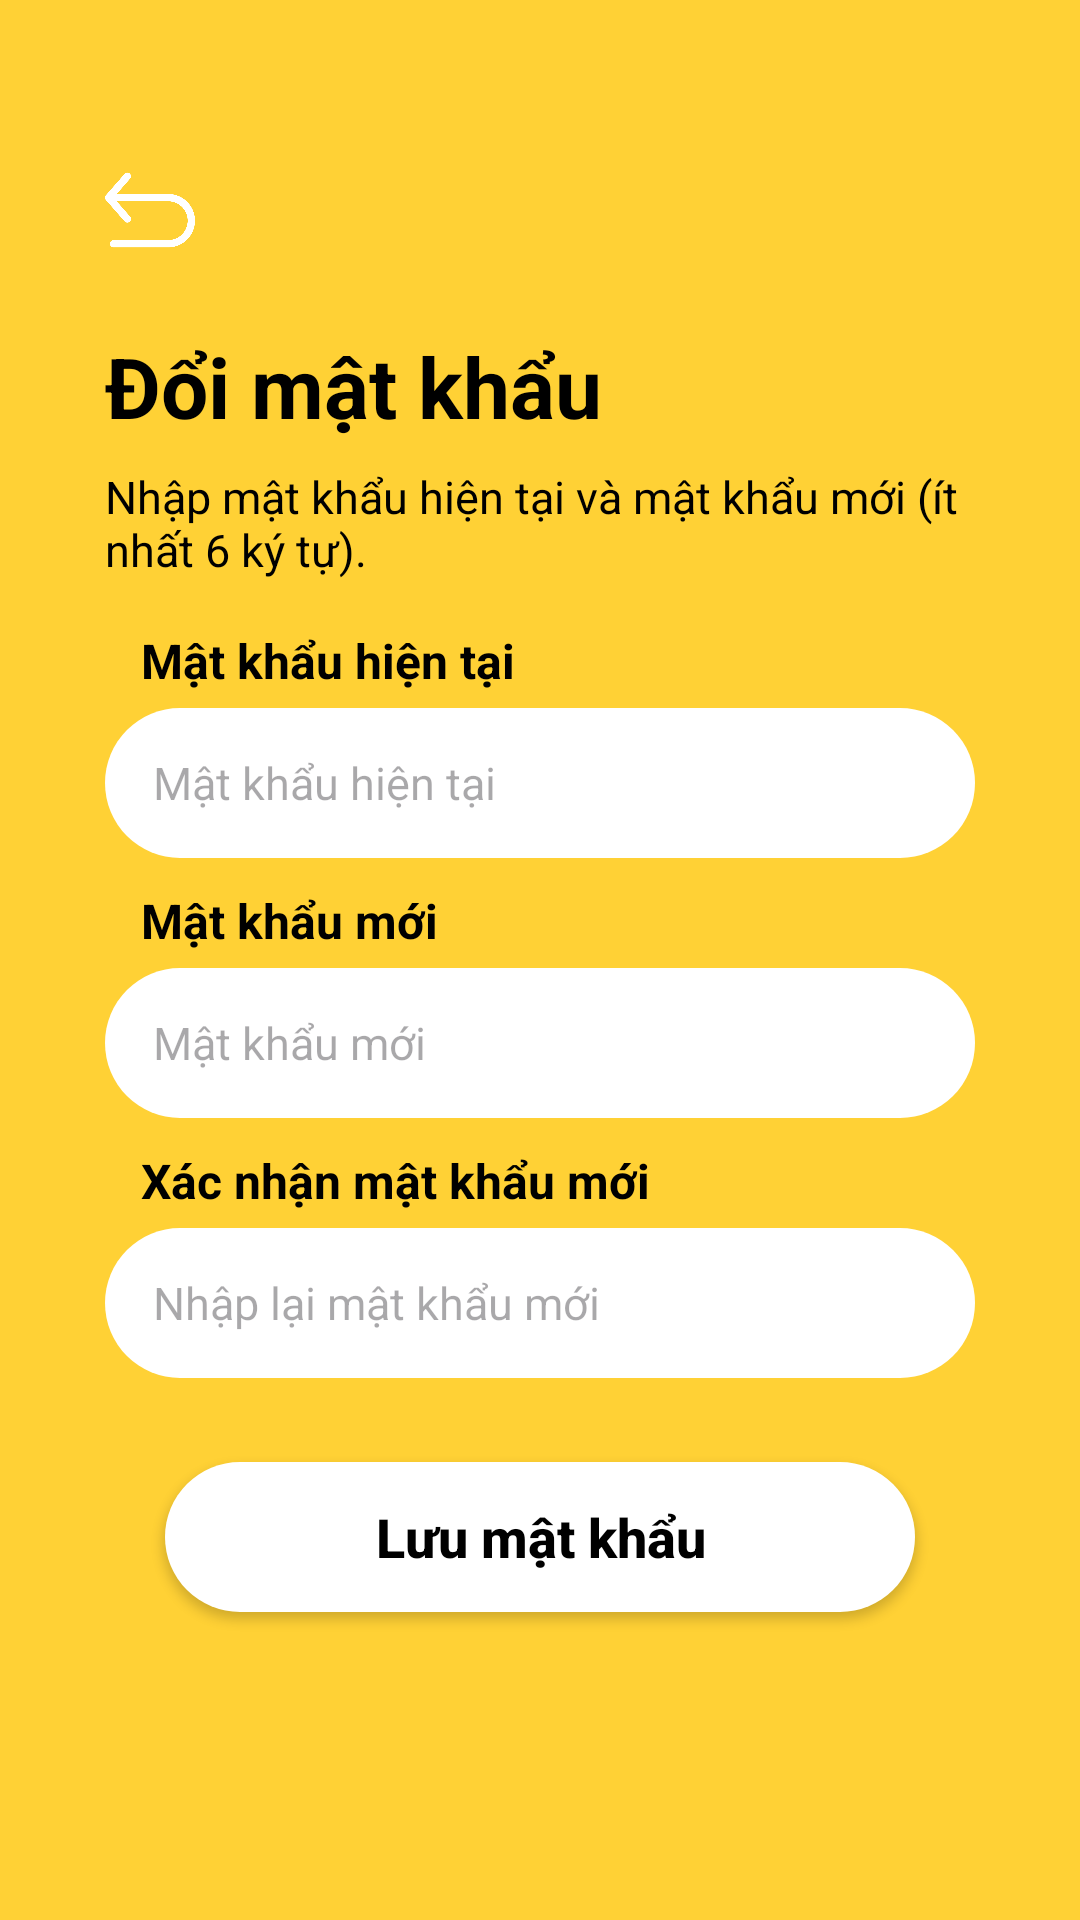

Named icons in this screenshot (1080px x 1920px) and their bounding boxes, (x1, y1, x2, y2):
Quay lại: (105, 173, 195, 248)
